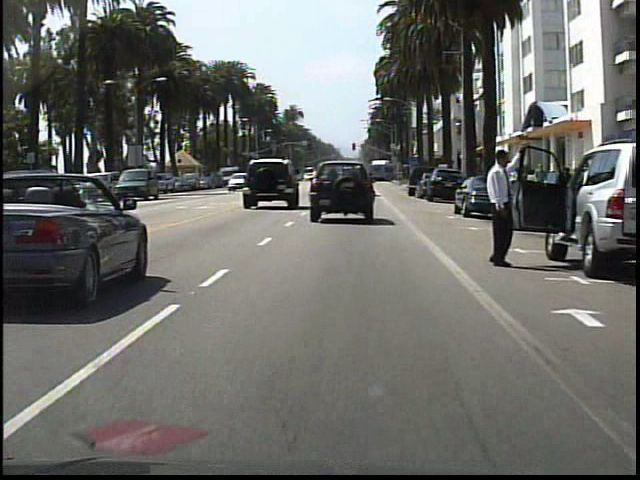person: (473, 140, 528, 273)
